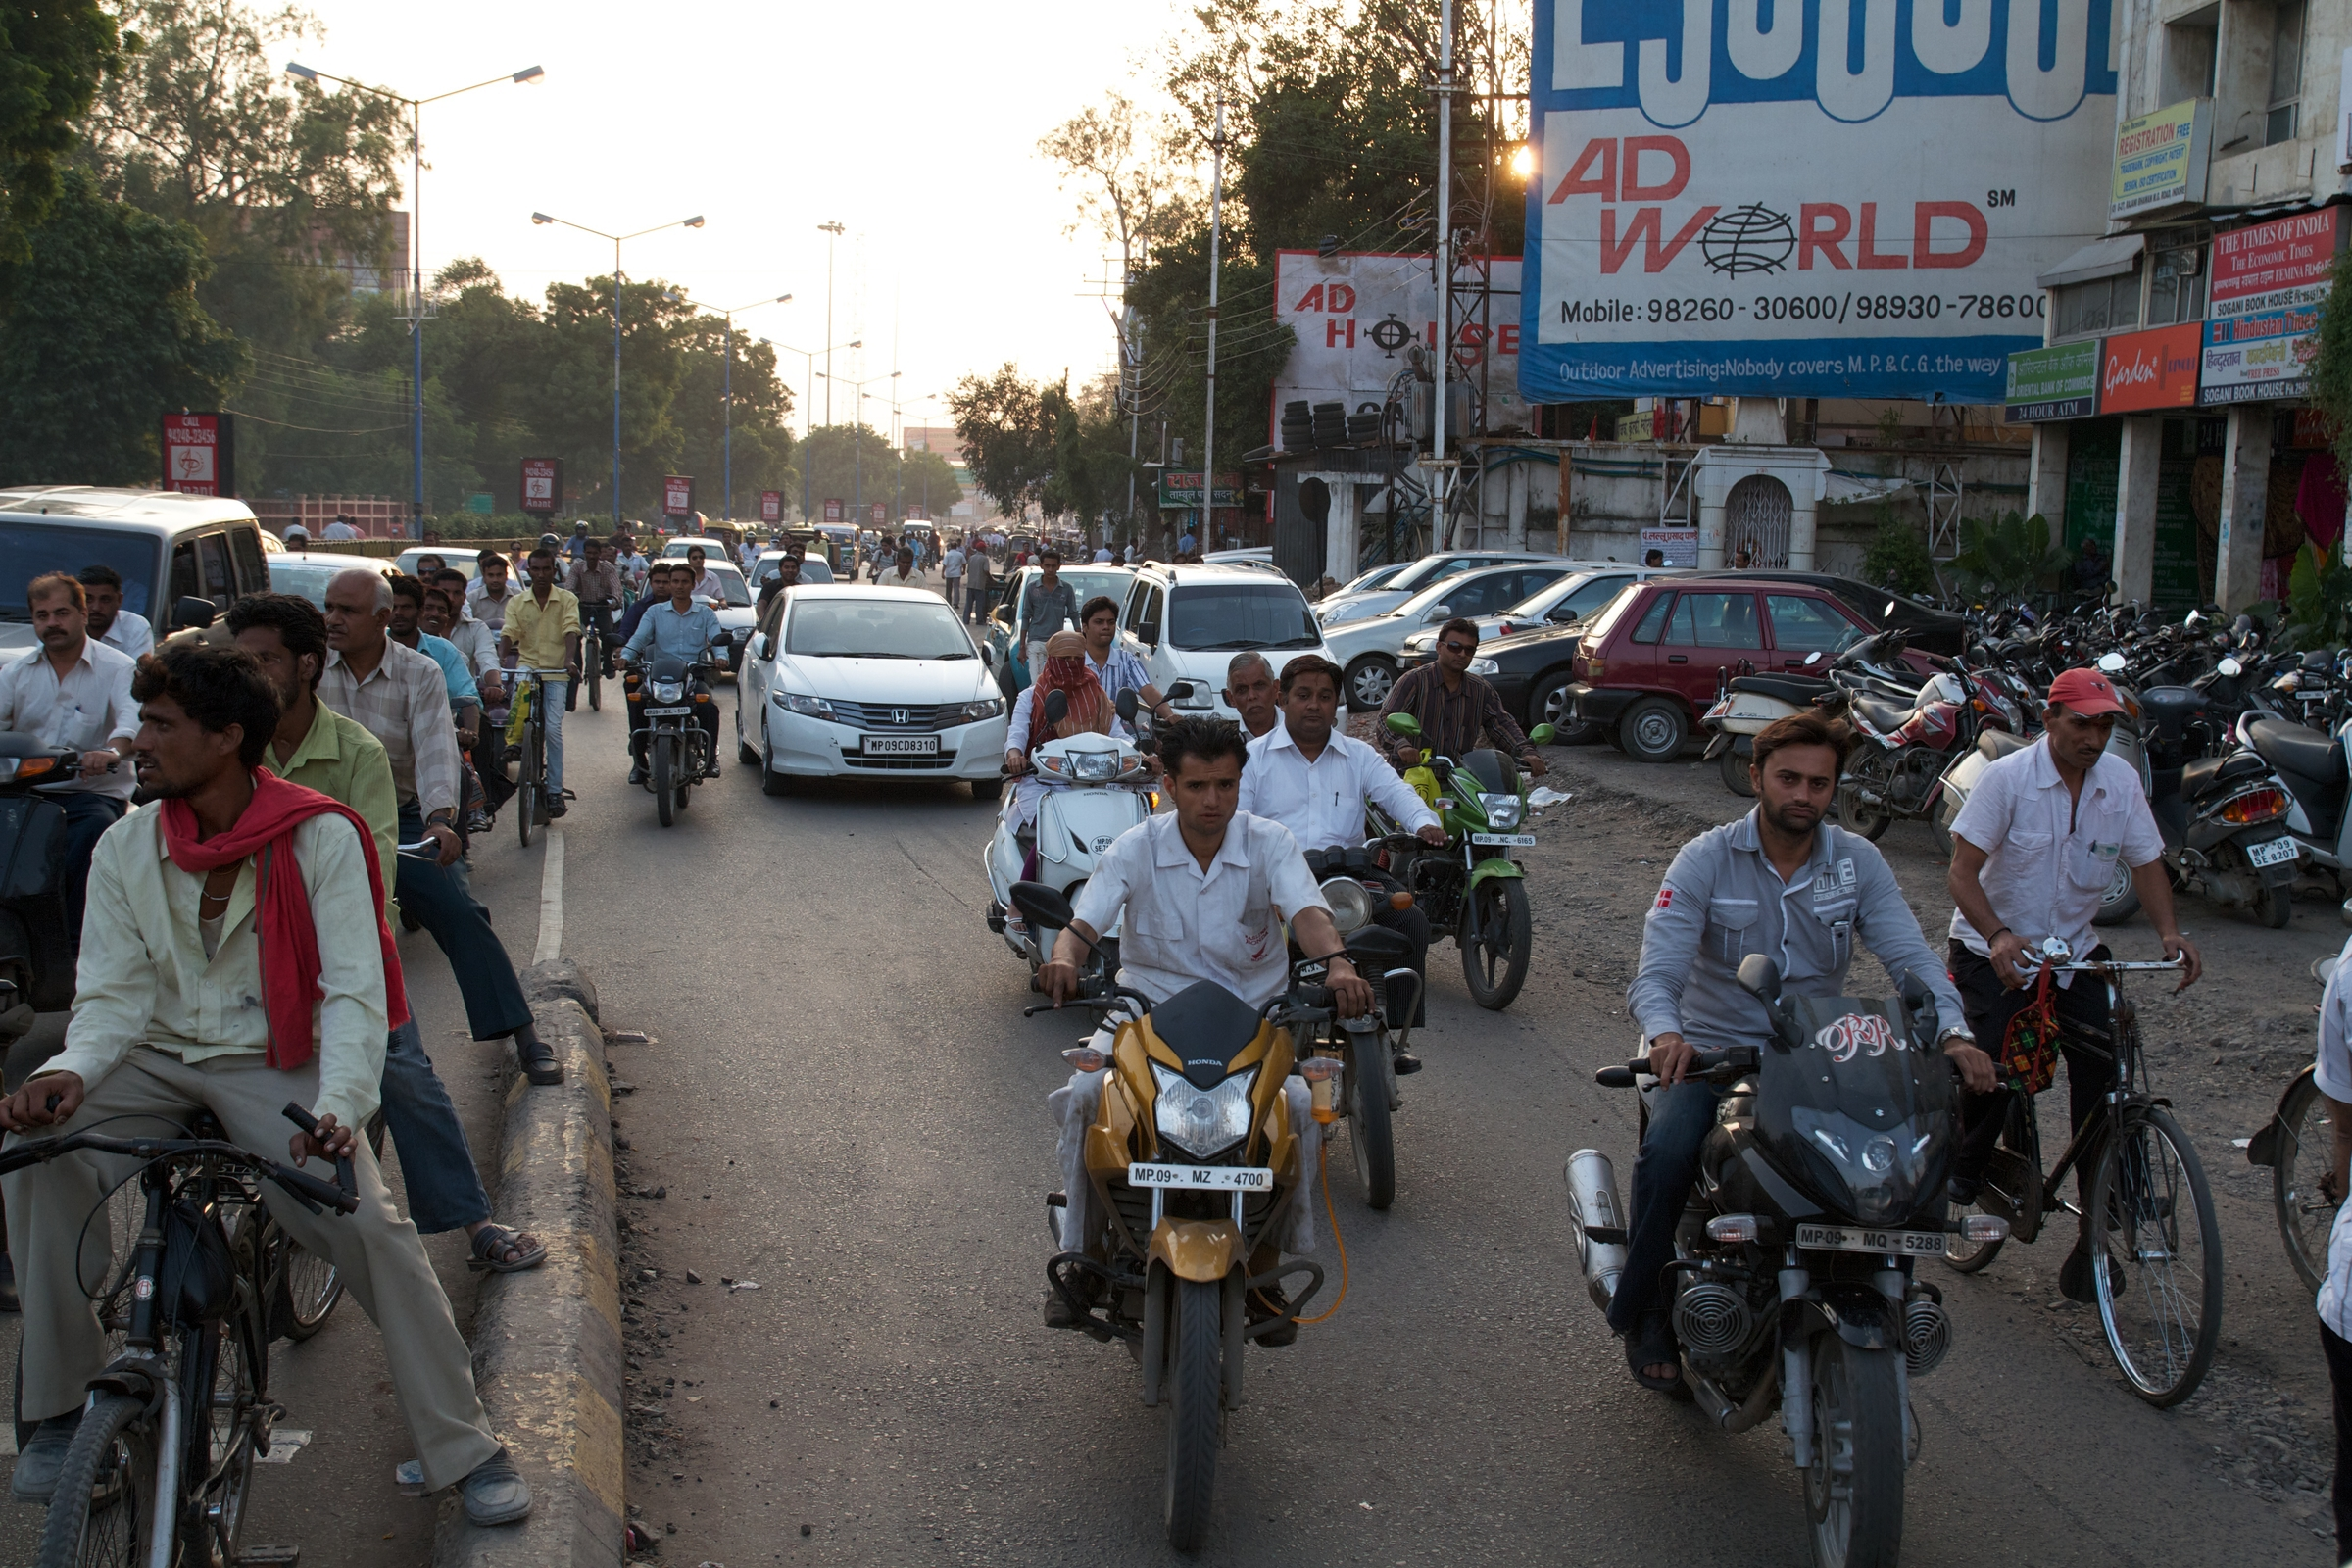h_bike: (1684, 690, 1997, 1568), (1101, 726, 1292, 1526)
h_nohelmet: (125, 655, 270, 835), (1725, 710, 1859, 865), (1147, 706, 1260, 865), (2039, 660, 2127, 773), (1276, 655, 1348, 767), (1044, 618, 1096, 701)
numplate: (1796, 1216, 1978, 1284), (1126, 1139, 1286, 1200)
